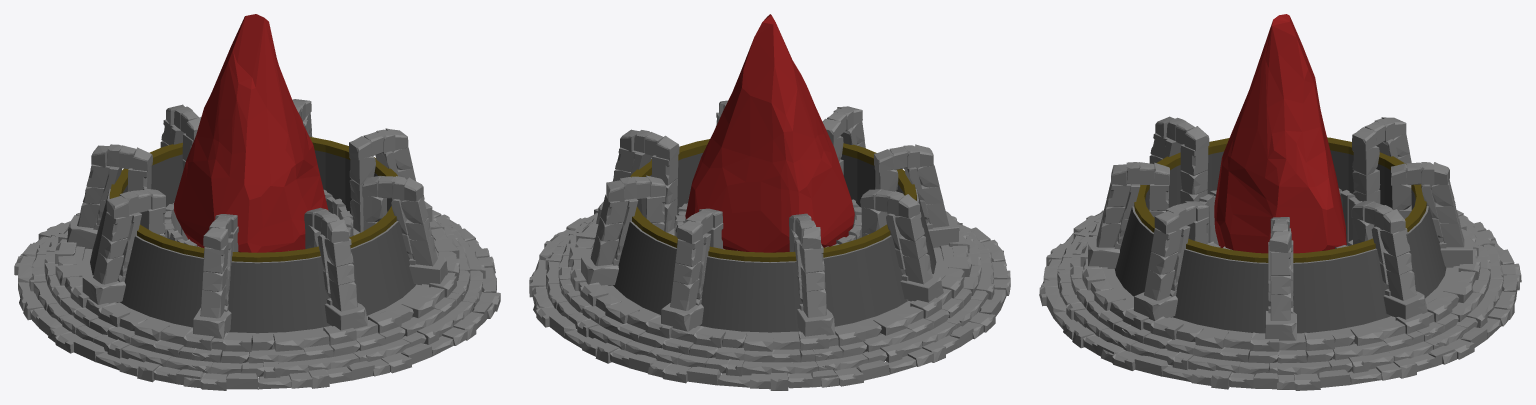
Rendered from SM_capitol_moba.fbx.
3 views of the same model, side by side, from view 1: azimuth 30°, elevation 25°; view 2: azimuth 150°, elevation 25°; view 3: azimuth 270°, elevation 25° (orthographic).
Visible parts, largest first — view 1: Cylinder008; view 2: Cylinder008; view 3: Cylinder008.
Boxes of the visible parts, x1=… form: Cylinder008: x1=14, y1=14, x2=500, y2=390; Cylinder008: x1=529, y1=14, x2=1010, y2=390; Cylinder008: x1=1039, y1=14, x2=1521, y2=390.
Bounding box in the file's own units: 739 × 739 × 473.
